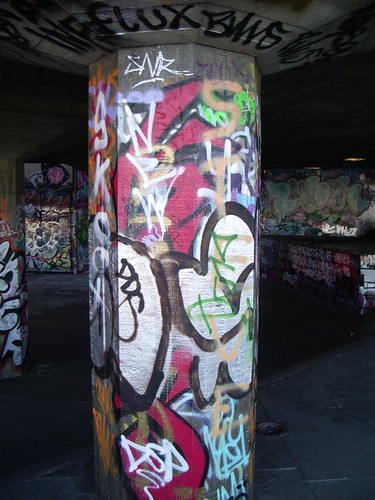collumn: (87, 53, 261, 490)
graffiti: (90, 61, 253, 500), (61, 1, 343, 64), (260, 162, 375, 244), (14, 161, 84, 275), (261, 248, 373, 311), (1, 240, 32, 373)
